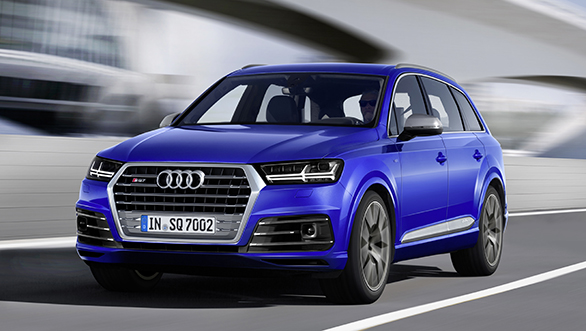number_plate: (139, 212, 220, 237)
